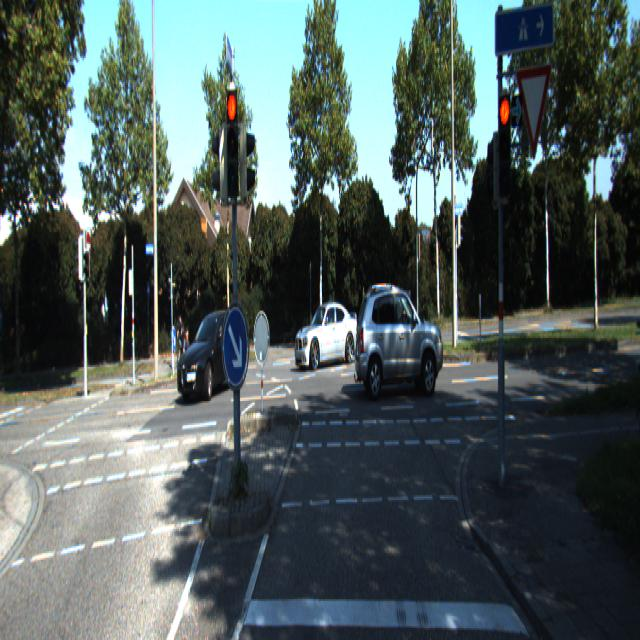Car: (354, 284, 446, 399), (176, 309, 249, 403), (292, 295, 359, 369)
